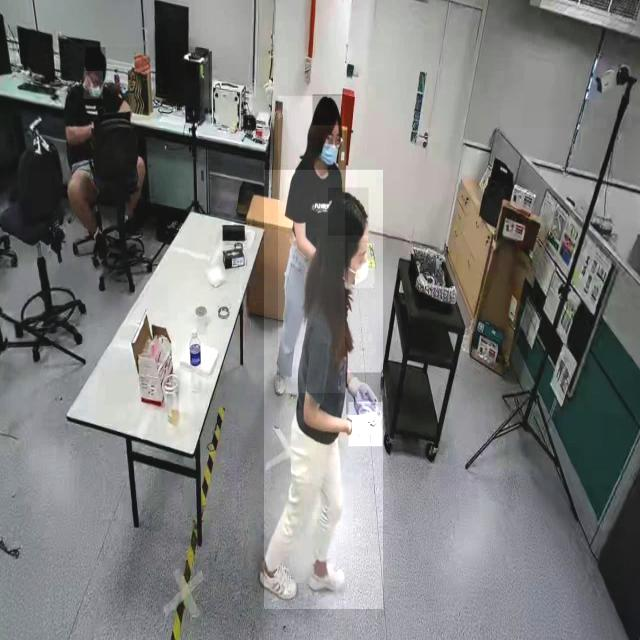face_mask: (348, 243, 374, 288), (318, 129, 342, 175), (84, 71, 104, 100)
hand_glove: (349, 402, 383, 447), (346, 373, 382, 415)
head_nohelmet: (328, 188, 369, 236), (312, 94, 342, 126), (86, 47, 106, 69)
person: (264, 170, 384, 610), (278, 96, 345, 393), (52, 47, 144, 259)
shoes: (256, 557, 300, 607), (305, 557, 348, 601)
